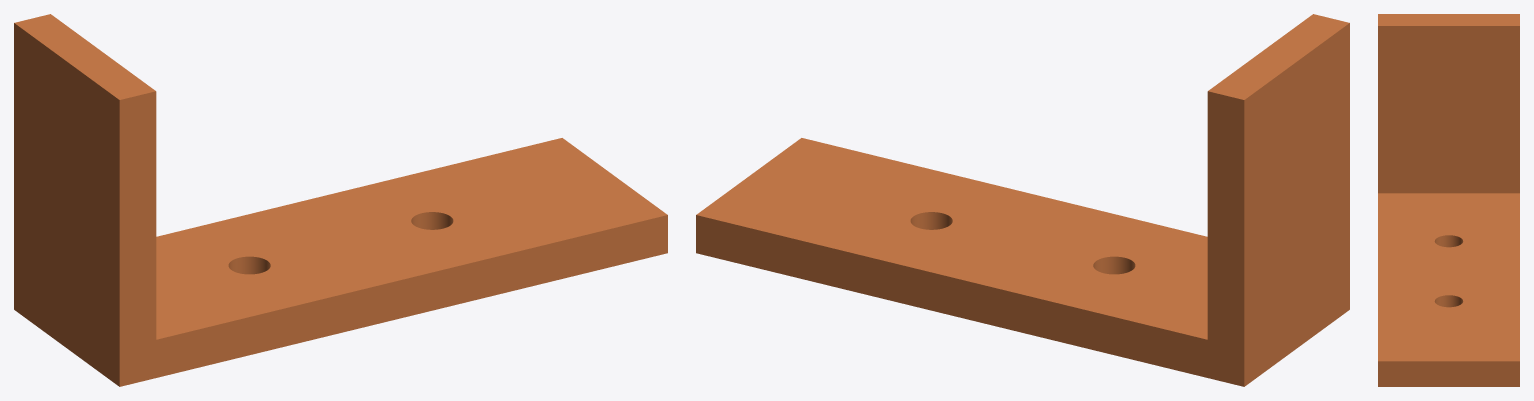
3 views of the same model, side by side, from view 1: azimuth 30°, elevation 25°; view 2: azimuth 150°, elevation 25°; view 3: azimuth 270°, elevation 25° (orthographic). The views are drawn at different scales.
Visible parts, largest first — view 1: part; view 2: part; view 3: part.
Part boxes in pixels (x1,y1,x2,y2): part: [14, 14, 667, 386]; part: [696, 14, 1349, 386]; part: [1378, 14, 1519, 386].
Bounding box in the file's own units: 60 × 30 × 20.
